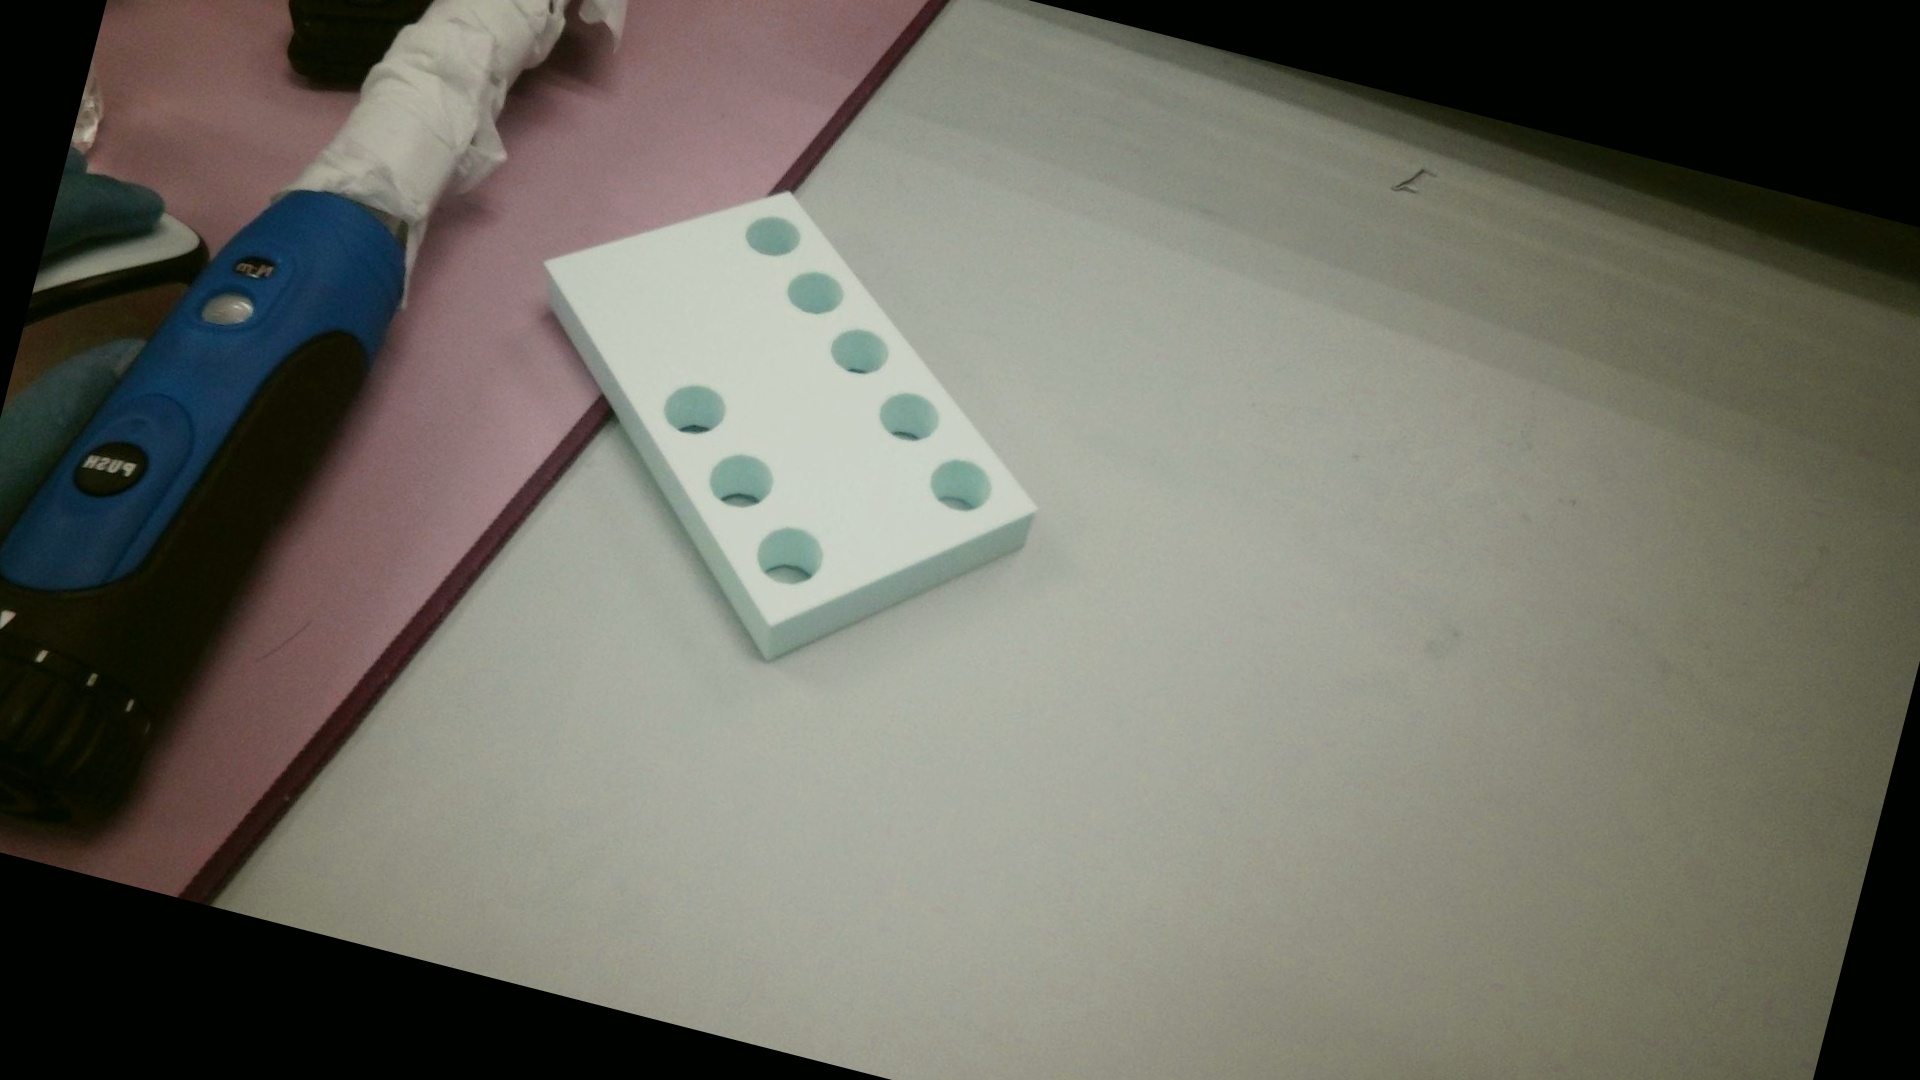hole: (698, 440, 781, 521), (750, 517, 829, 597), (870, 382, 947, 450), (924, 455, 1002, 520), (822, 316, 897, 382), (659, 373, 732, 440), (738, 208, 808, 261), (786, 265, 849, 318)
obj: (440, 123, 1114, 742)
